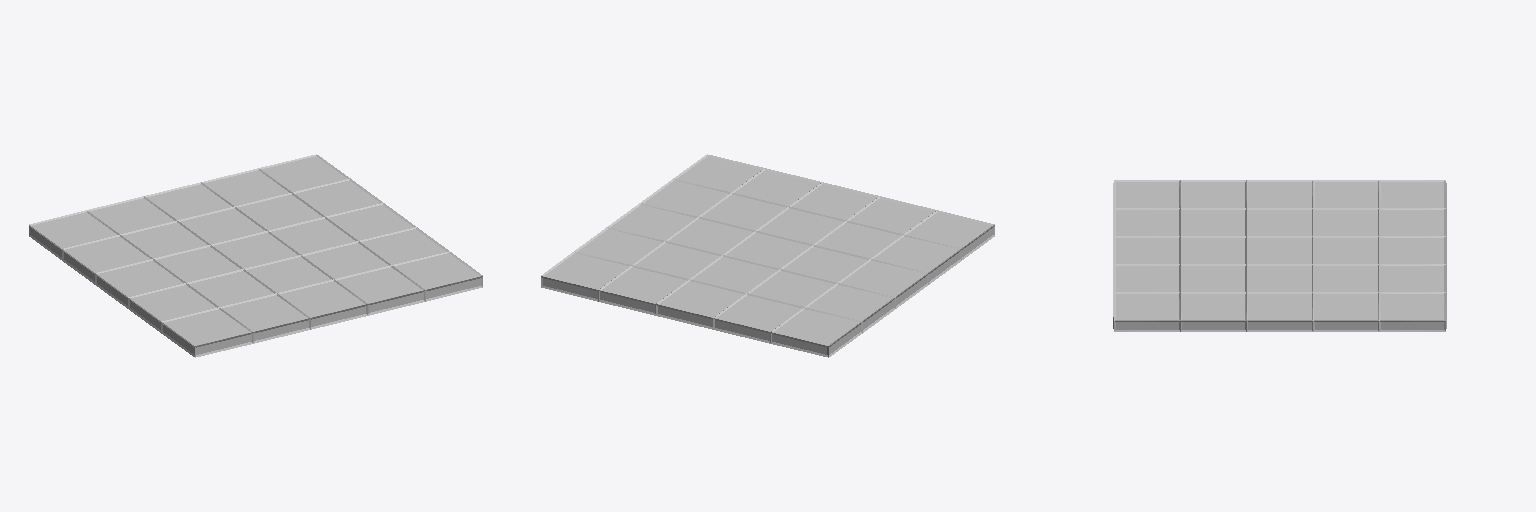
The model's file is platform.obj.
3 renders of one model, left to right at view 1: azimuth 30°, elevation 25°; view 2: azimuth 150°, elevation 25°; view 3: azimuth 270°, elevation 25°, orthographic.
Visible parts, largest first — view 1: Cube_Cube.001, Cube.001_Cube.003; view 2: Cube_Cube.001, Cube.001_Cube.003; view 3: Cube_Cube.001, Cube.001_Cube.003.
Part boxes in pixels (x1,y1,x2,y2): Cube_Cube.001: (30,156,480,354); Cube.001_Cube.003: (29,154,482,357); Cube_Cube.001: (543,156,993,354); Cube.001_Cube.003: (541,154,994,357); Cube_Cube.001: (1116,182,1443,329); Cube.001_Cube.003: (1113,180,1446,331).
Bounding box in the file's own units: 6.04 × 0.25 × 6.04.